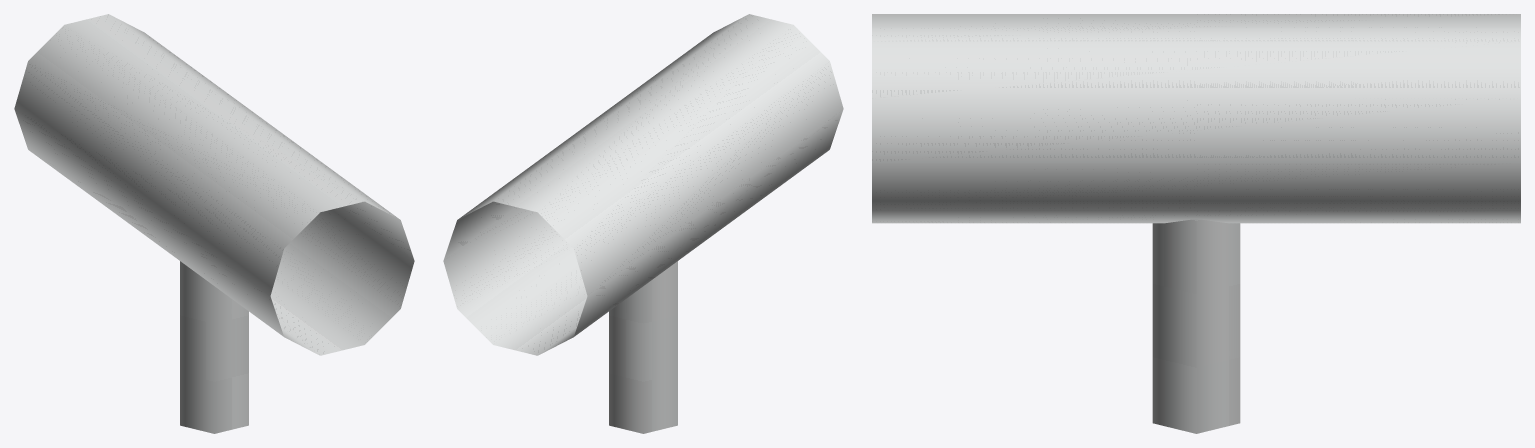
The model's file is trusssignalarm_level10_c9.obj.
3 views of the same model, side by side, from view 1: azimuth 30°, elevation 25°; view 2: azimuth 150°, elevation 25°; view 3: azimuth 270°, elevation 25° (orthographic). The views are drawn at different scales.
Visible parts, largest first — view 1: trusssignalarm_level10_c9; view 2: trusssignalarm_level10_c9; view 3: trusssignalarm_level10_c9.
Part boxes in pixels (x1=…): trusssignalarm_level10_c9: x1=14, y1=14, x2=414, y2=433; trusssignalarm_level10_c9: x1=443, y1=14, x2=843, y2=433; trusssignalarm_level10_c9: x1=872, y1=14, x2=1520, y2=433.
Size of the model in its own units: 0.325 by 0.6545 by 1.
